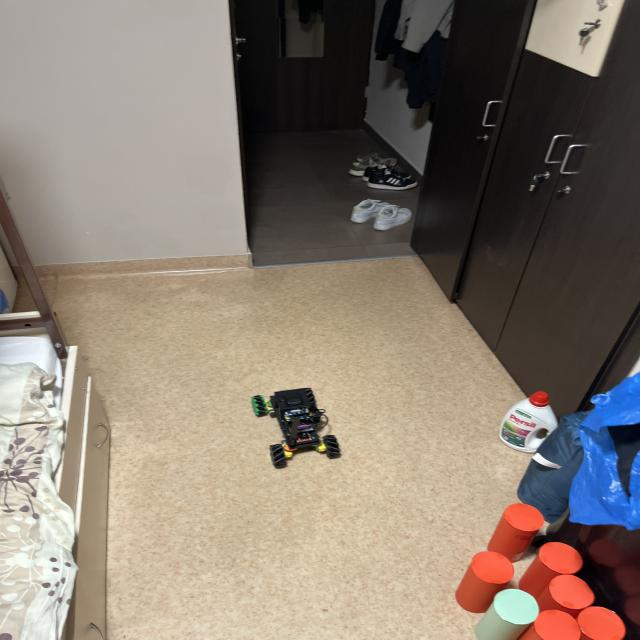robot: (251, 388, 341, 468)
